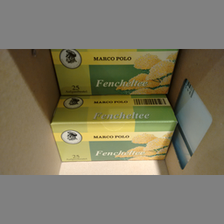tea: (49, 96, 179, 163), (50, 49, 178, 96)
